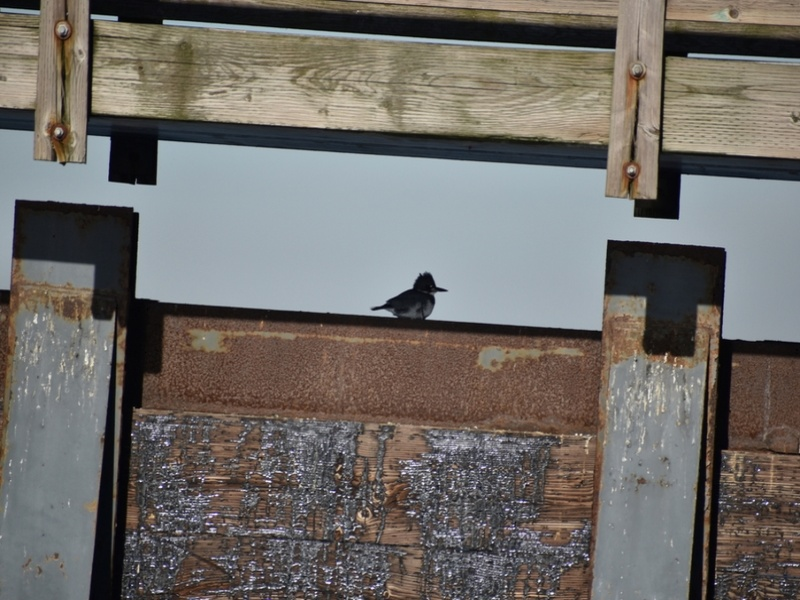kingfisher: (371, 269, 450, 320)
